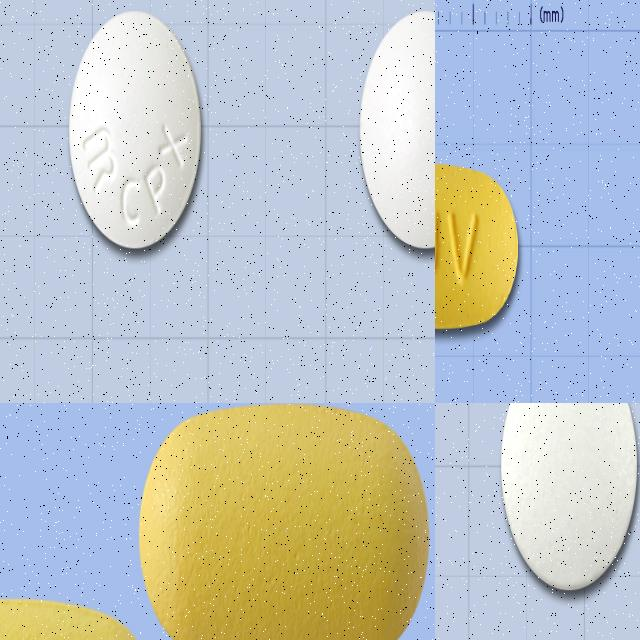Ceclacin: (136, 403, 431, 640)
Ciprofloxacin Tab- Mirae: (68, 7, 204, 254), (357, 1, 435, 251)
Citro: (498, 403, 640, 595)
Clavit: (435, 158, 522, 337)
